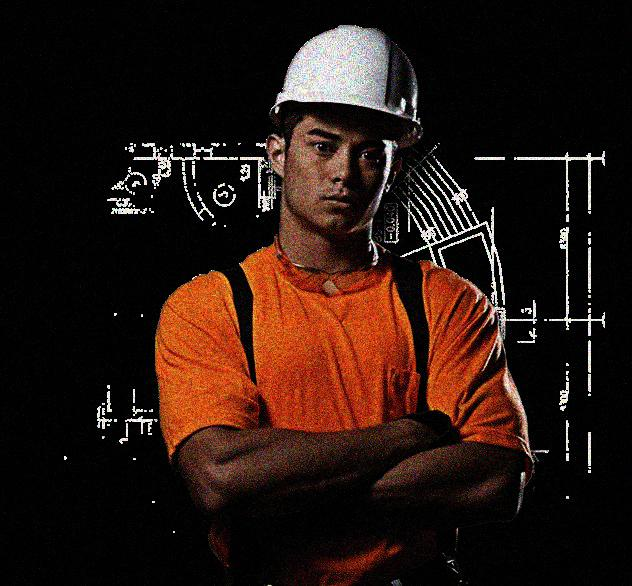helmet: (263, 23, 423, 235)
